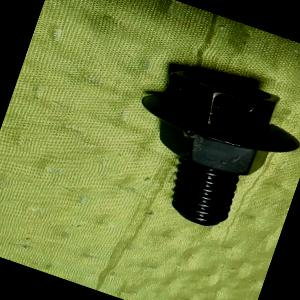parafuso: (106, 52, 300, 247)
